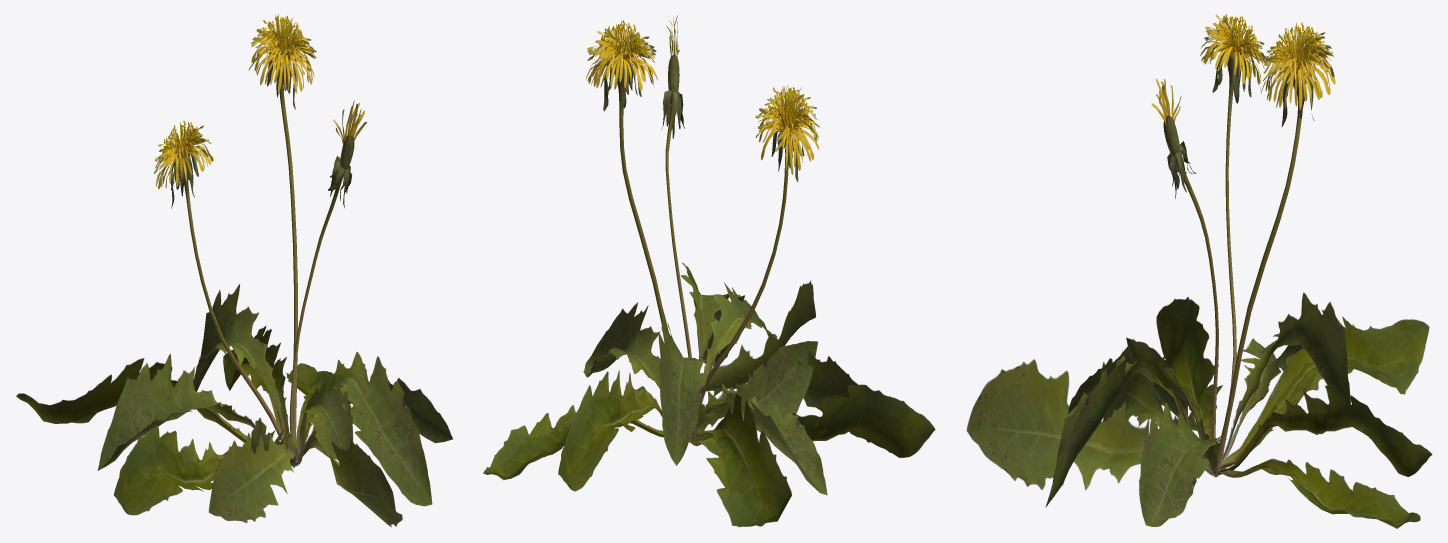
The model's file is dandelion_b.glb.
3 renders of one model, left to right at view 1: azimuth 30°, elevation 25°; view 2: azimuth 150°, elevation 25°; view 3: azimuth 270°, elevation 25°, orthographic. The views are drawn at different scales.
Visible parts, largest first — view 1: dandelion_01_b_LOD0.001; view 2: dandelion_01_b_LOD0.001; view 3: dandelion_01_b_LOD0.001.
Part boxes in pixels (x1,y1,x2,y2): dandelion_01_b_LOD0.001: [16, 14, 452, 527]; dandelion_01_b_LOD0.001: [483, 15, 935, 526]; dandelion_01_b_LOD0.001: [966, 14, 1432, 528].
Bounding box in the file's own units: 4.67 × 5.6 × 5.05.
1 material, 1 textured.
